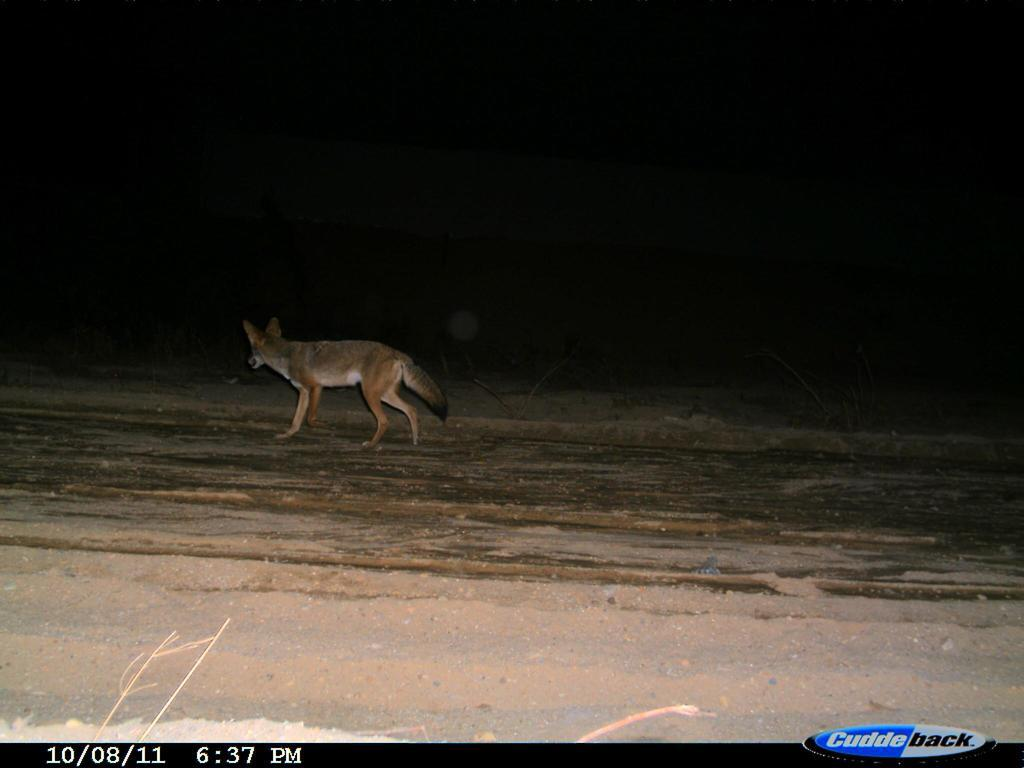coyote: (235, 309, 452, 459)
